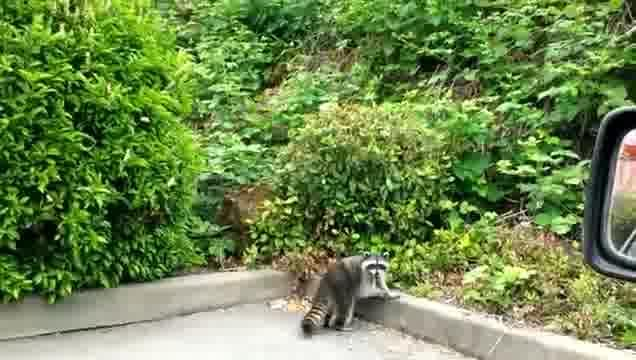raccoon: (301, 249, 402, 335)
